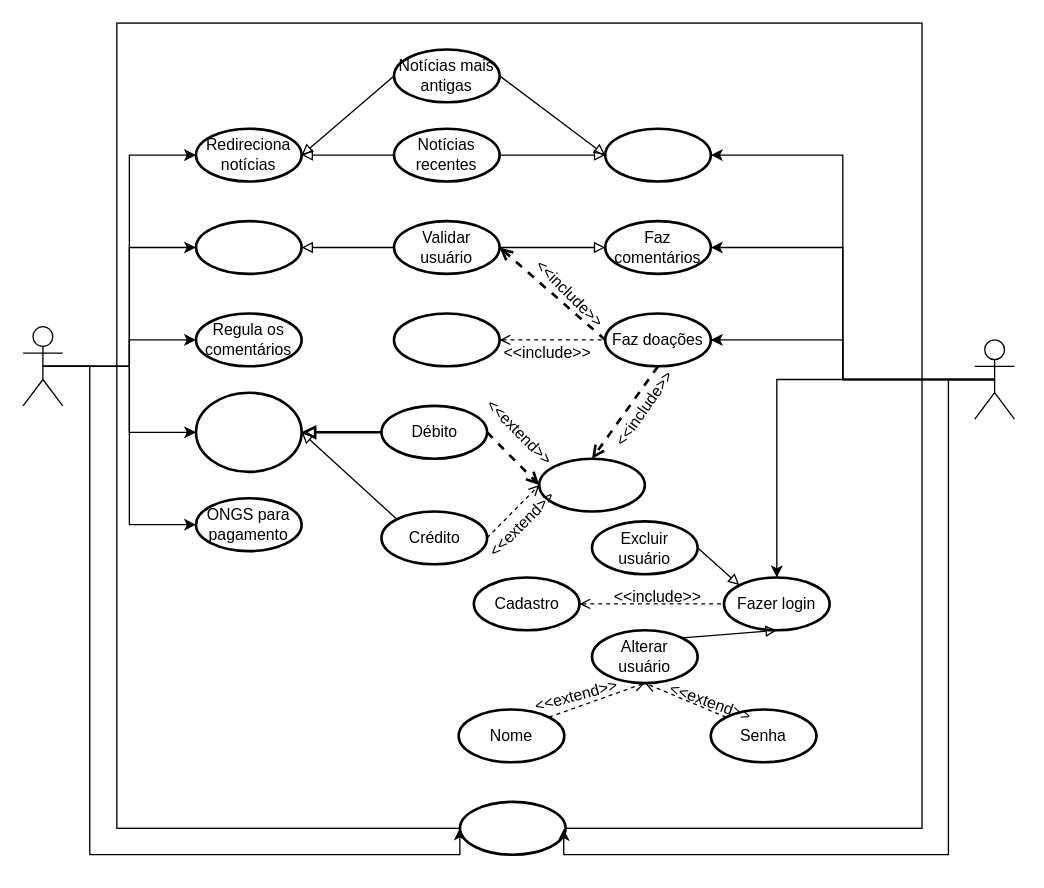
The diagram is 1044 pixels wide and 888 high, and some of its shapes have lost their labels. The centre of each missing label's shape, as x and y in pixels:
Adm: the point at 42,365
Envia notificação de pagamento: the point at 248,432
Escolher ong: the point at 446,339
Forma de pagamento: the point at 591,484
Gerencia usuários: the point at 248,247
Links para contato: the point at 512,827
Pesquisar notícias: the point at 657,154
Usuário: the point at 994,379
